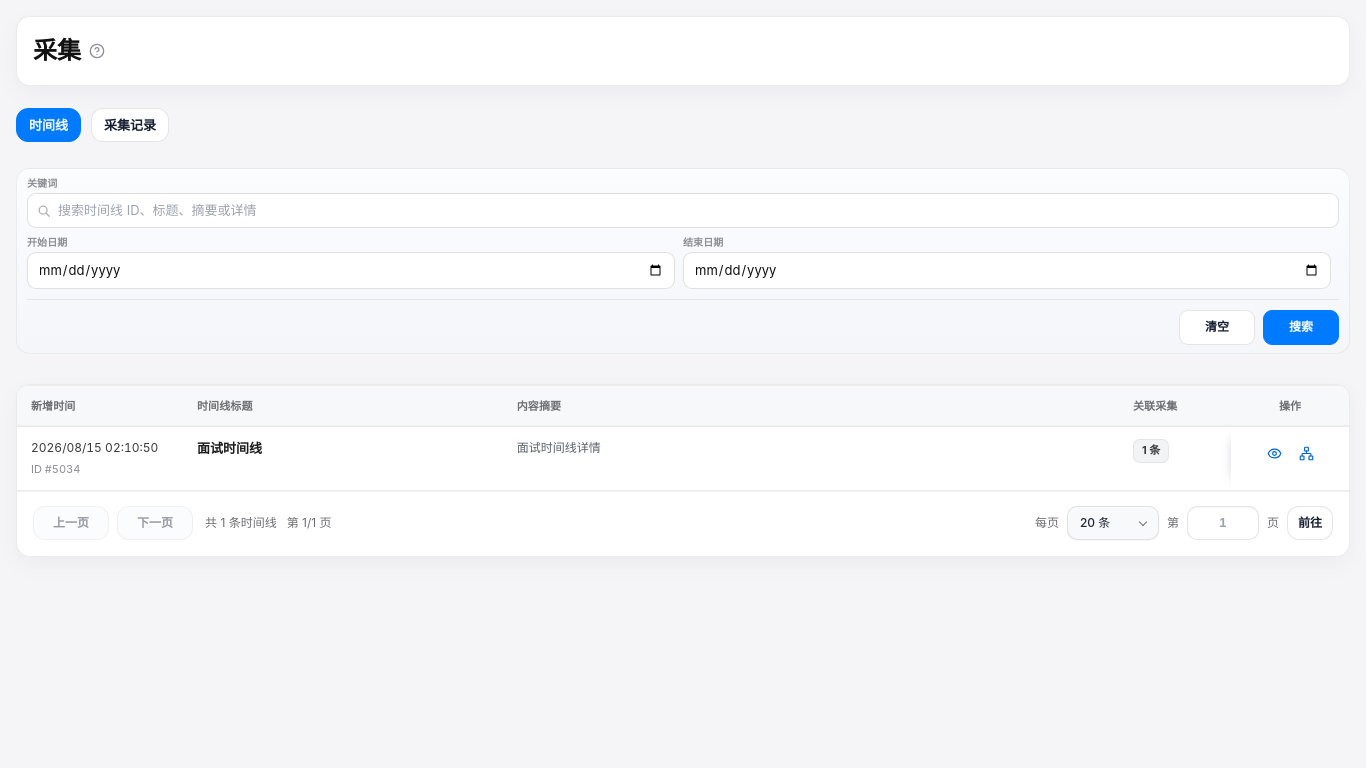
显式搜索交互 › RepositoryPanel 时间线操作列可按需打开该时间线的记忆图谱
Expected: the table named "时间线表格" is shown, [17,386,1349,490]
Expected: the dialog "记忆图谱" is not shown
Click the button named "在记忆图谱中查看时间线「面试时间线」" at (1306, 453), box [1292,439,1320,467]
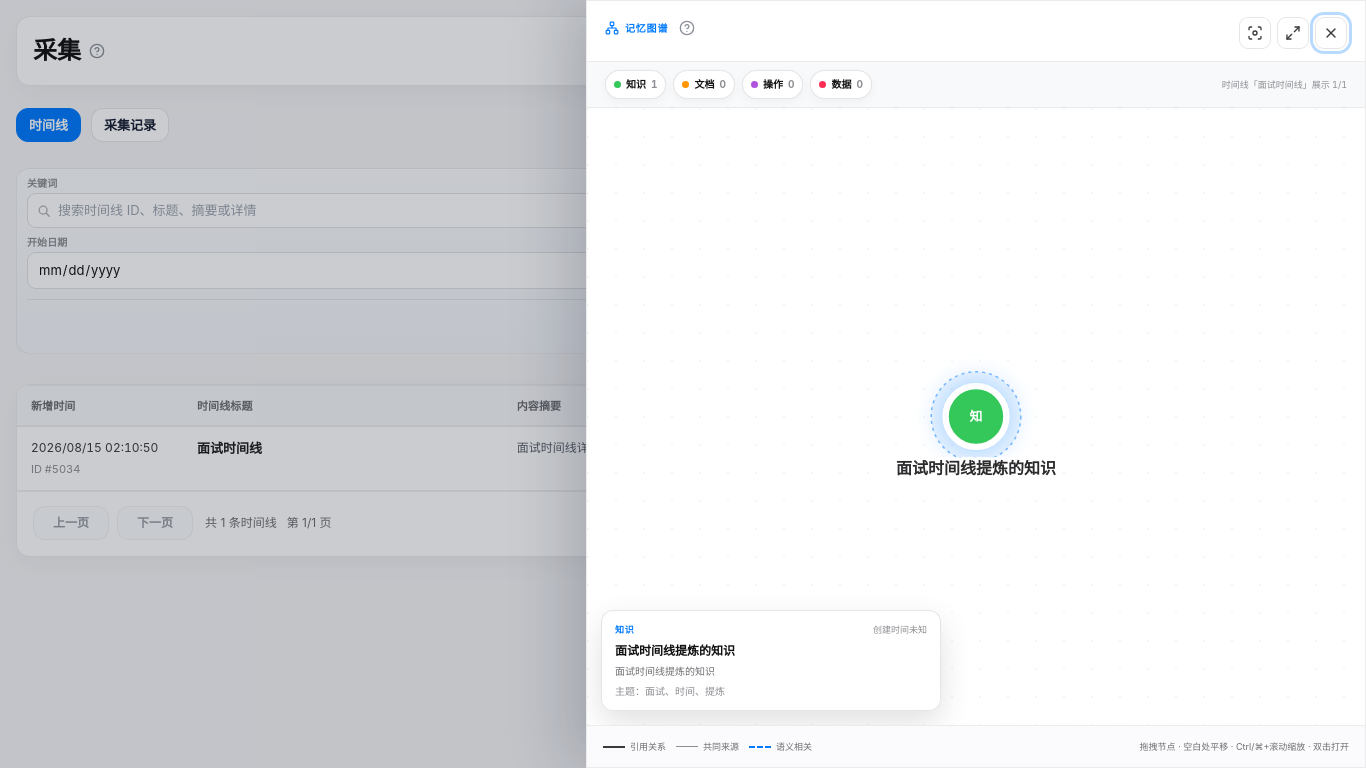
Expected: the text "面试时间线提炼的知识" is shown, [896,458,1056,478]
Expected: the dialog "记忆图谱" is shown, [586,0,1365,767]
